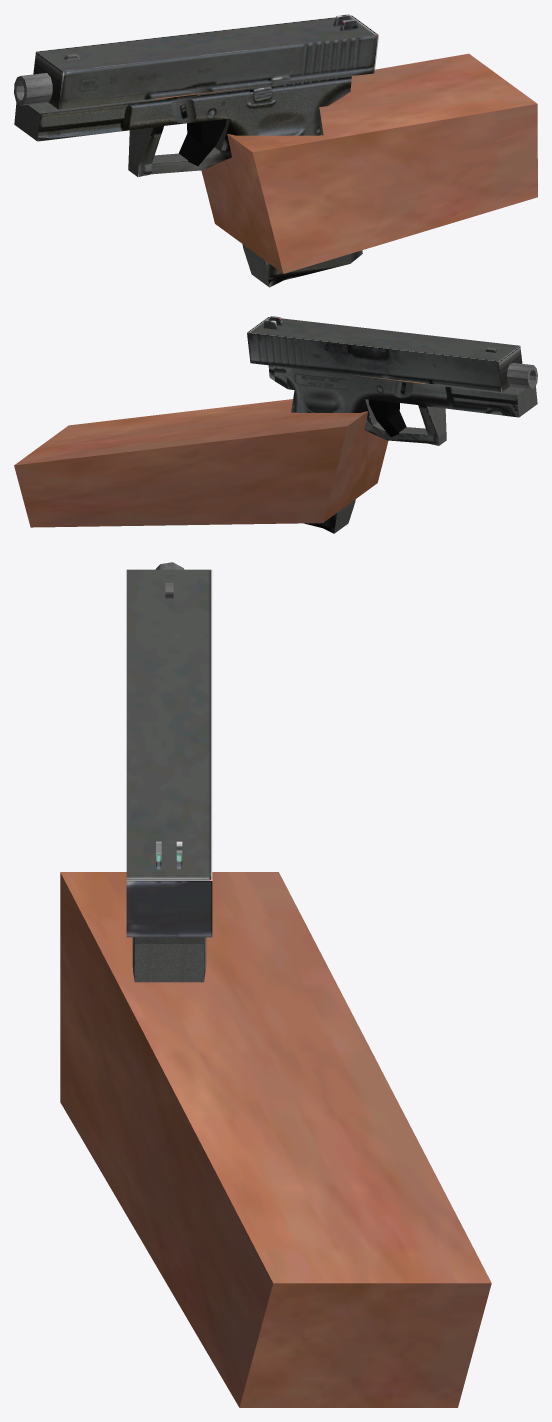
The model's file is pistol_000012.obj.
3 views of the same model, one above another, from view 1: azimuth 30°, elevation 25°; view 2: azimuth 150°, elevation 25°; view 3: azimuth 270°, elevation 25° (orthographic). The views are drawn at different scales.
Parts seen in each view (by area): view 1: Cube, Cube.001, Cube.003; view 2: Cube, Cube.001, Cube.003; view 3: Cube, Cube.001.
Part boxes in pixels (bbox=[...]): Cube: bbox=[14, 53, 537, 287]; Cube.001: bbox=[33, 14, 378, 109]; Cube.003: bbox=[178, 119, 226, 165]; Cube: bbox=[14, 363, 537, 533]; Cube.001: bbox=[247, 316, 522, 391]; Cube.003: bbox=[368, 399, 406, 437]; Cube: bbox=[60, 562, 491, 1407]; Cube.001: bbox=[126, 569, 212, 937].
Size of the model in its own units: 1.7 by 0.8155 by 0.7214.
